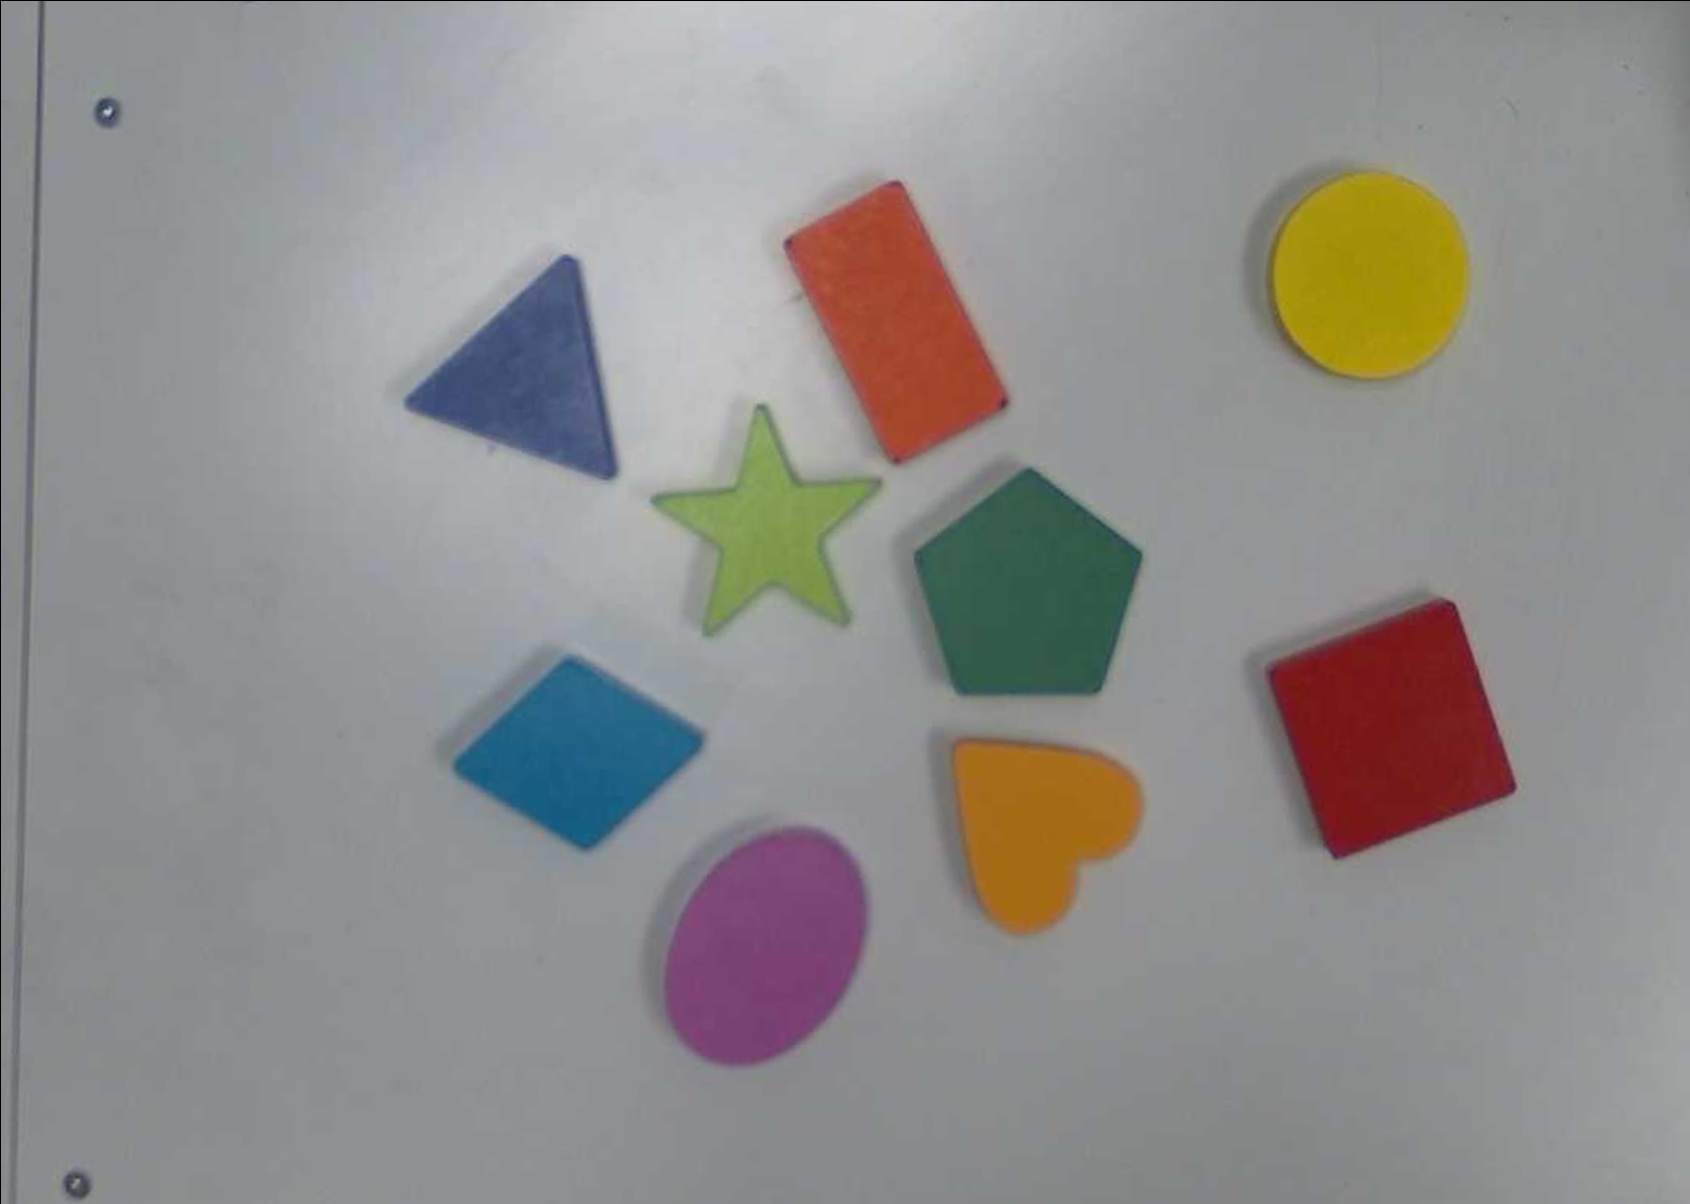Circle: (1270, 169, 1472, 387)
Ellipse: (662, 825, 872, 1066)
Heart: (951, 735, 1147, 947)
Parallelogram: (452, 650, 708, 850)
Pentagon: (907, 457, 1145, 697)
Rectangle: (777, 167, 1019, 464)
Square: (1260, 592, 1523, 867)
Star: (650, 397, 886, 644)
Triangle: (403, 248, 620, 482)
